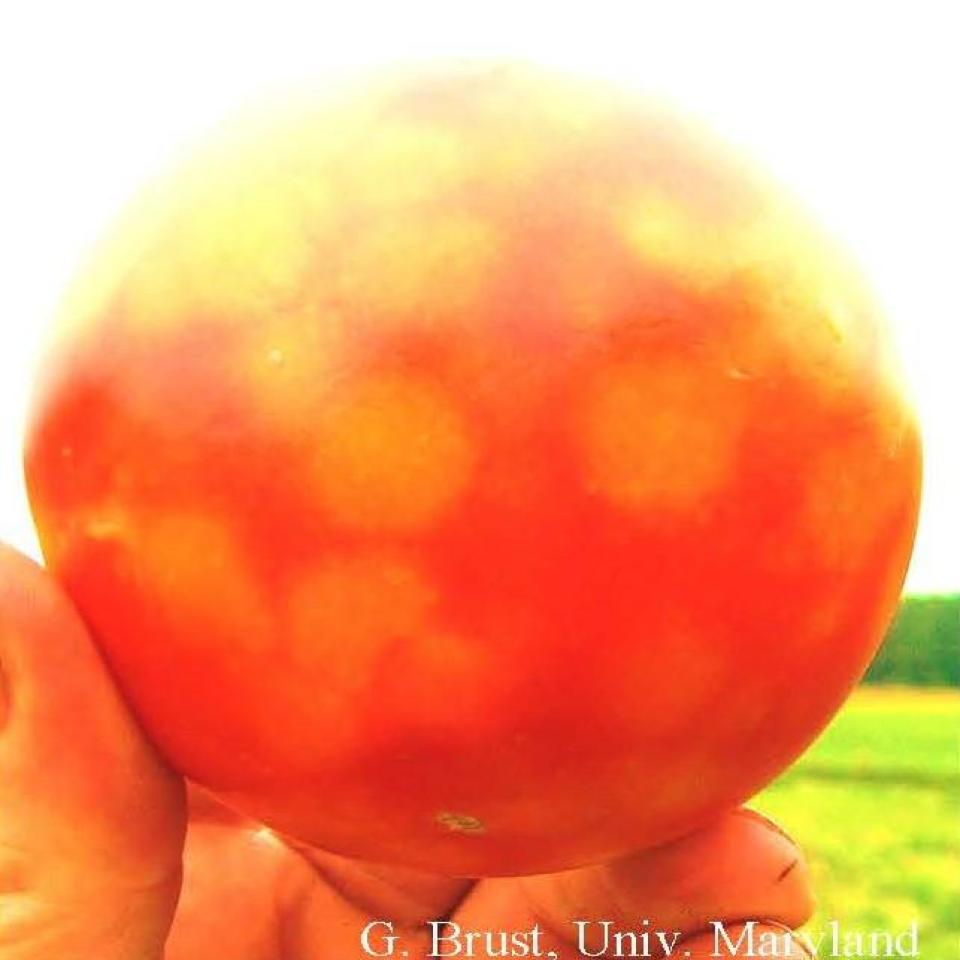Spotted wilt Virus: (25, 55, 924, 878)
